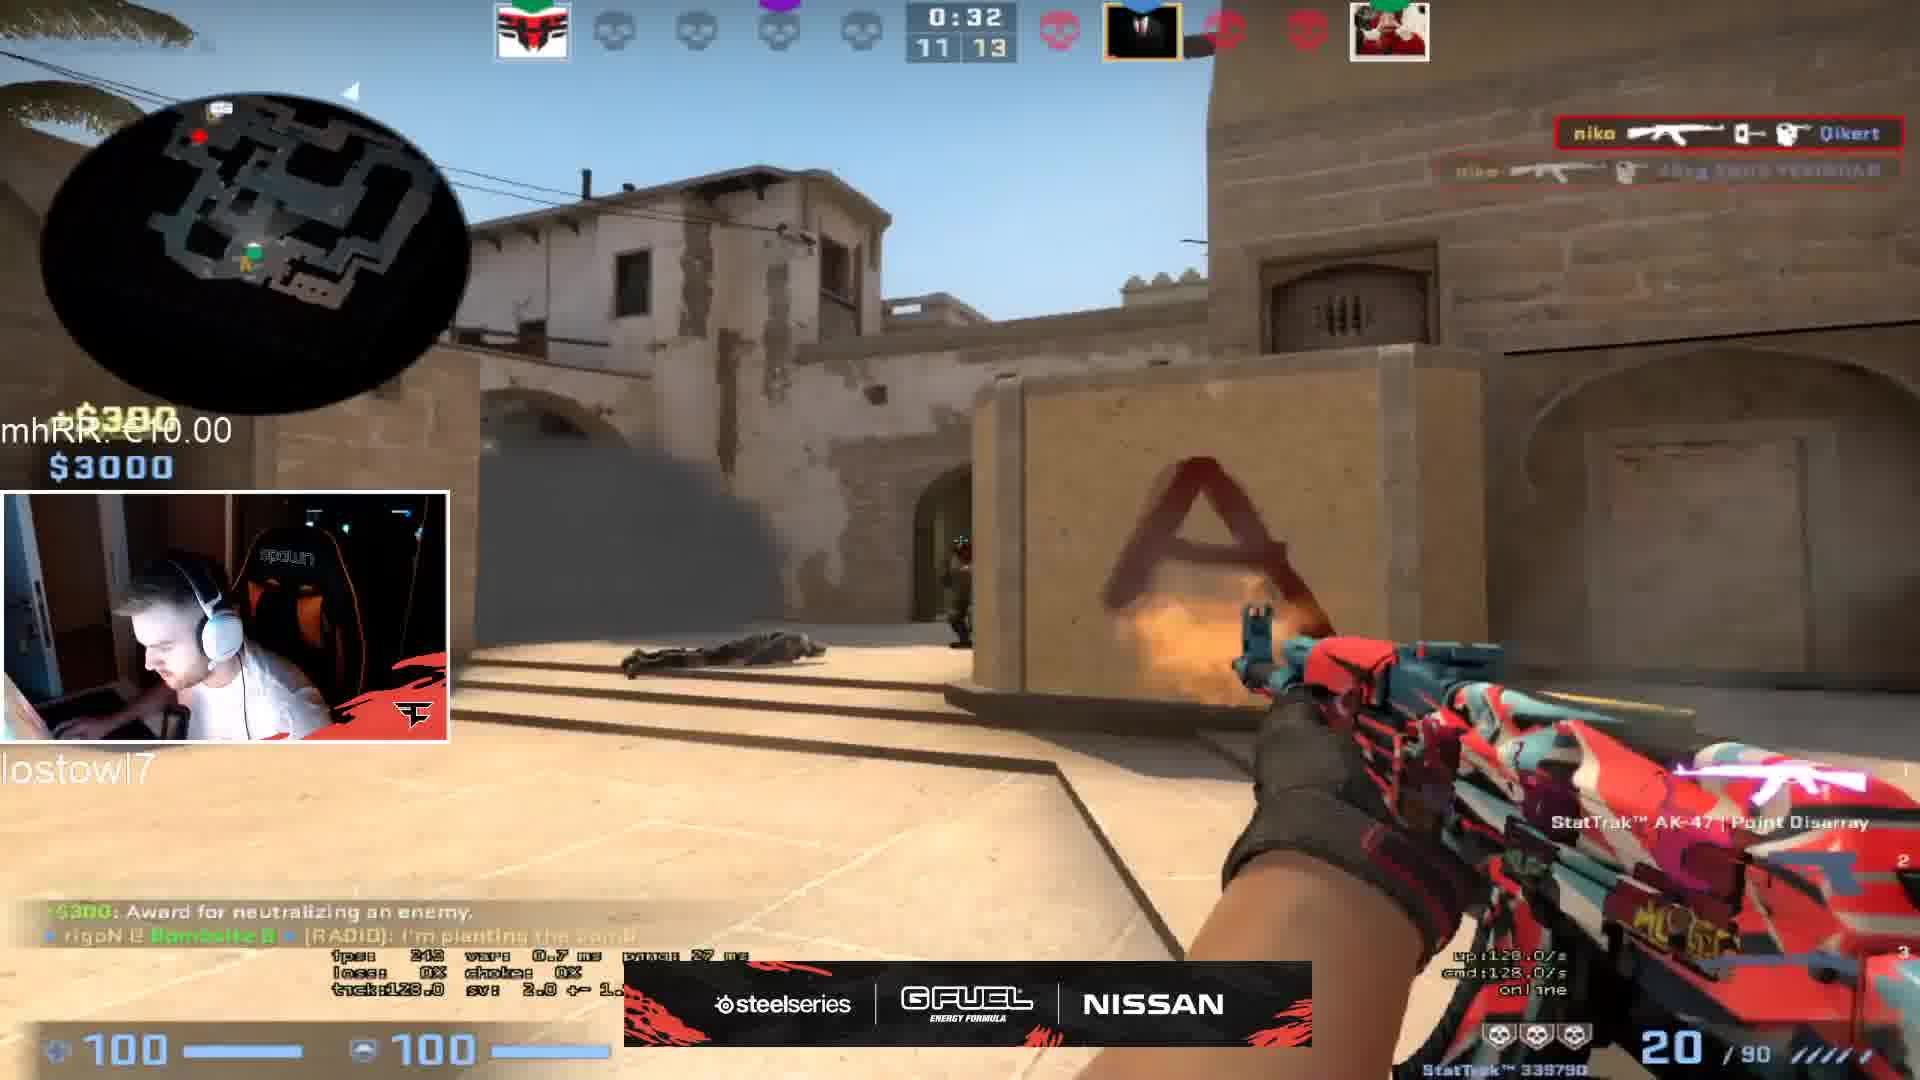enemy: (942, 545, 978, 651)
